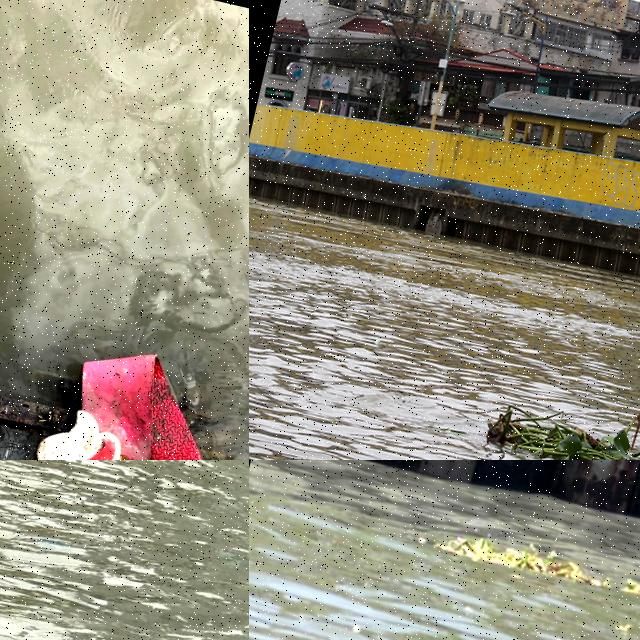water-hyacinth: (483, 391, 640, 461), (448, 526, 597, 585), (164, 461, 250, 509), (1, 461, 59, 492), (107, 461, 179, 480), (622, 569, 640, 609)
